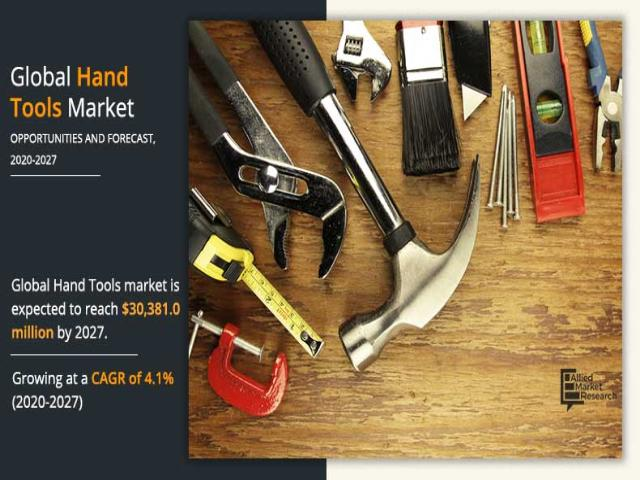Adjustable spanner: (332, 21, 391, 100)
Gas wrench: (189, 22, 346, 277)
Hammer: (253, 21, 480, 371)
Pliers: (580, 21, 622, 171)
Tape measure: (189, 185, 324, 357)
